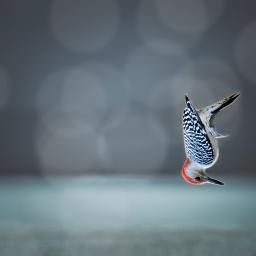Woodpecker: (176, 85, 245, 189)
